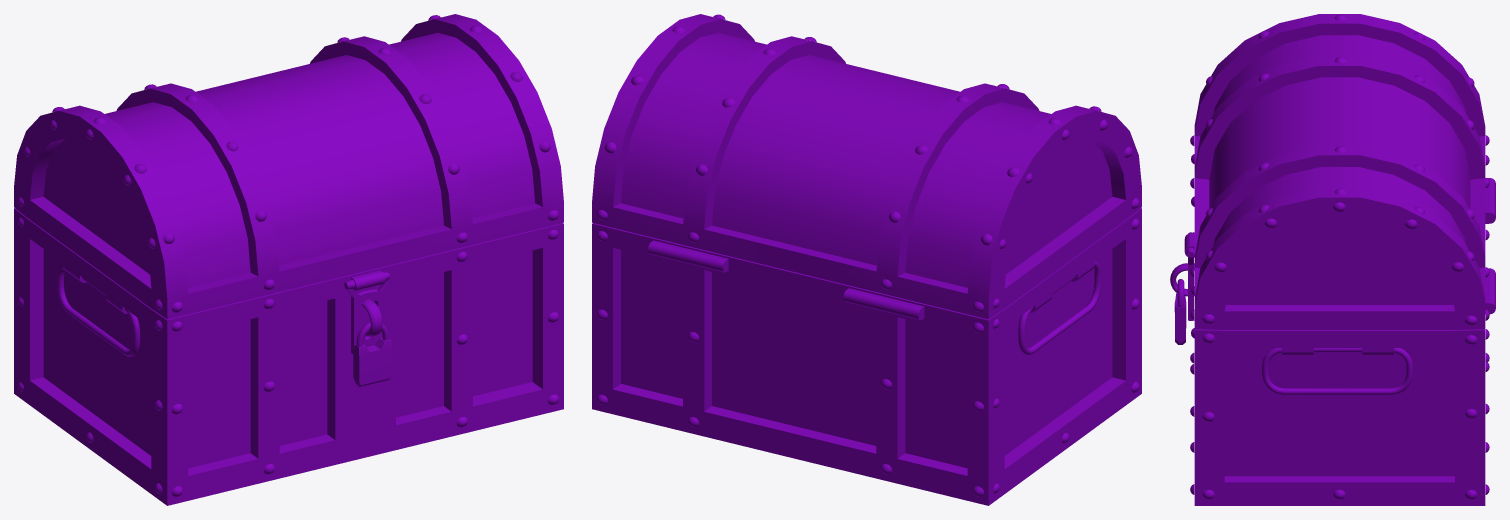
Rendered from chest.dae.
3 renders of one model, left to right at view 1: azimuth 30°, elevation 25°; view 2: azimuth 150°, elevation 25°; view 3: azimuth 270°, elevation 25°, orthographic. The views are drawn at different scales.
Parts seen in each view (by area): view 1: chest; view 2: chest; view 3: chest.
Part boxes in pixels (left/top/right/bottom): chest: left=14, top=14, right=563, bottom=505; chest: left=592, top=14, right=1141, bottom=505; chest: left=1170, top=14, right=1495, bottom=505.
Bounding box in the file's own units: 93.08 × 72.28 × 68.42.
